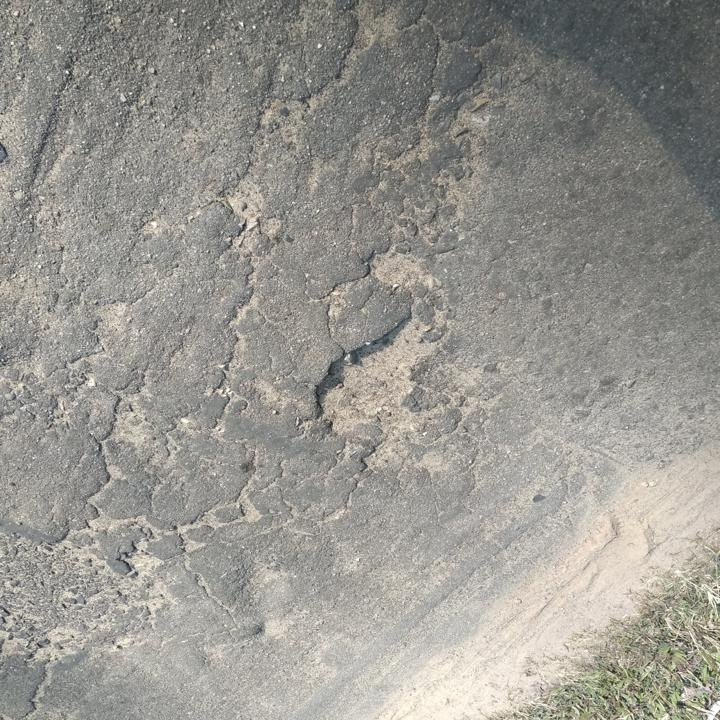pothole: (307, 315, 443, 438), (362, 249, 431, 295)
